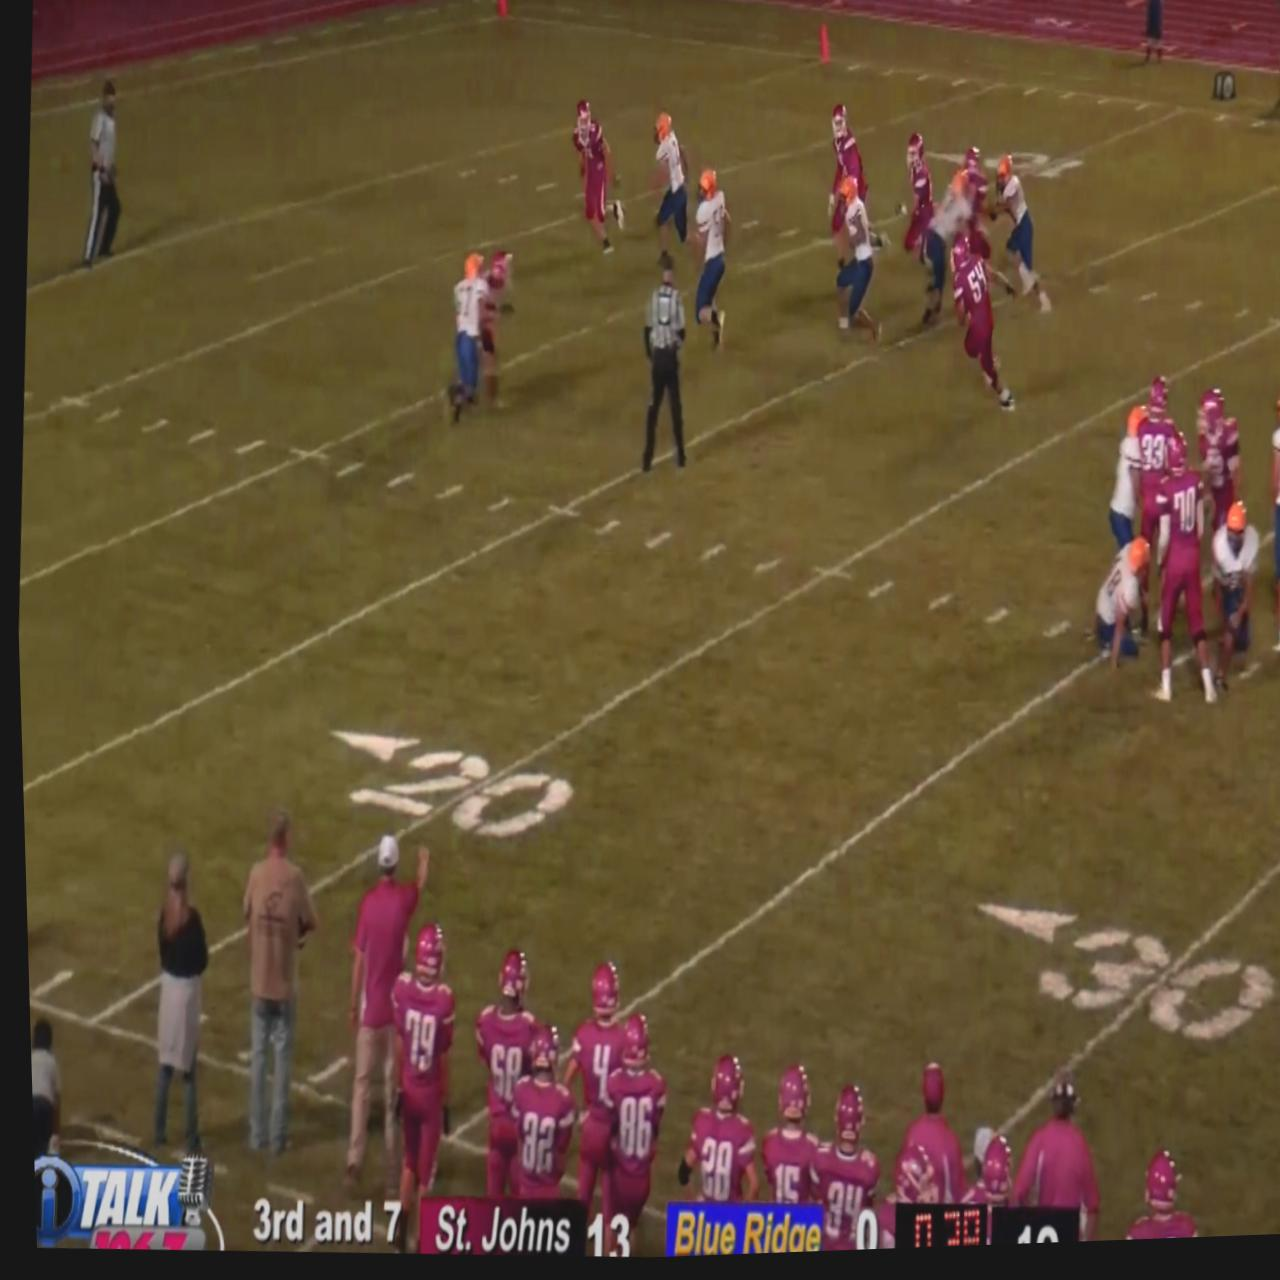10L: (924, 148, 1081, 192)
20L: (319, 721, 573, 852)
30L: (964, 894, 1274, 1061)
